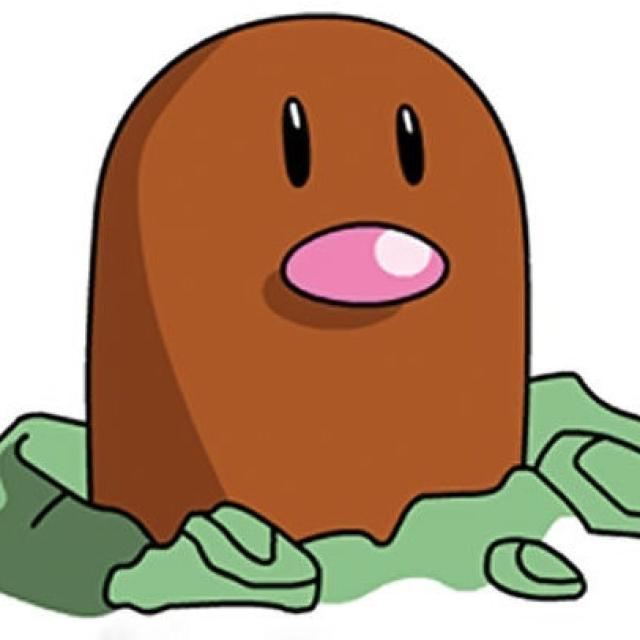Diglett: (84, 8, 534, 542)
